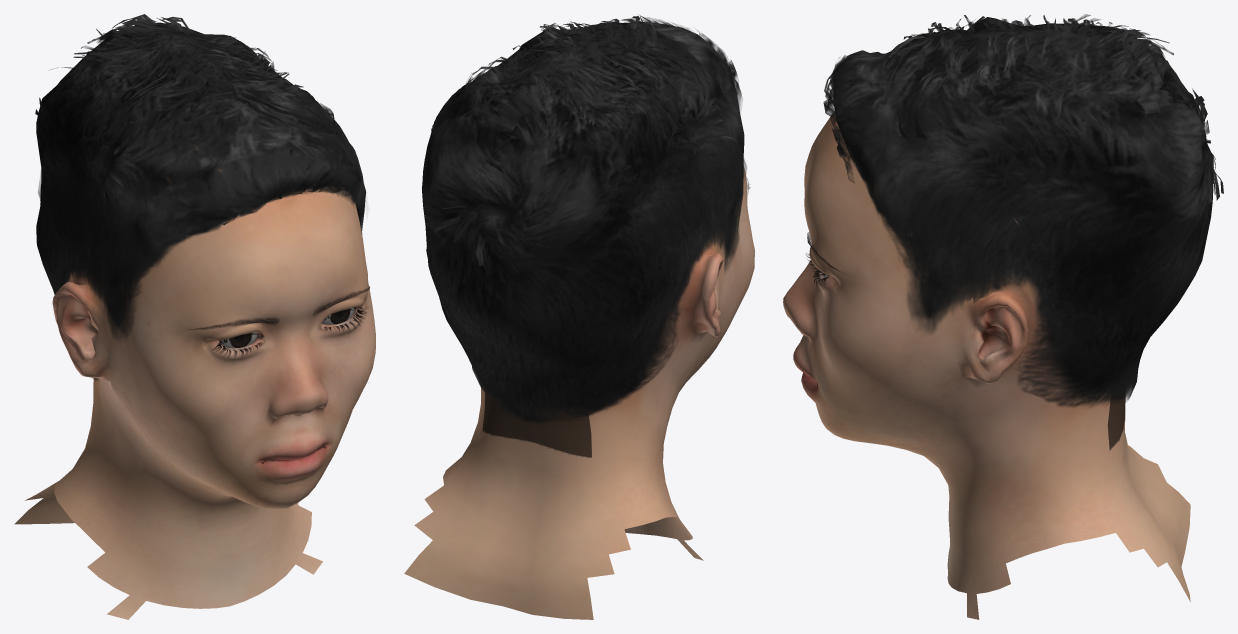
The model's file is patient10.glb.
3 views of the same model, side by side, from view 1: azimuth 30°, elevation 25°; view 2: azimuth 150°, elevation 25°; view 3: azimuth 270°, elevation 25° (orthographic). The views are drawn at different scales.
Visible parts, largest first — view 1: jung_kkoma.body, jung_kkoma.short01, jung_kkoma.eyelashes01, jung_kkoma.eyebrow001, jung_kkoma.high-poly; view 2: jung_kkoma.short01, jung_kkoma.body; view 3: jung_kkoma.short01, jung_kkoma.body.
Part boxes in pixels (x1,y1,x2,y2): jung_kkoma.body: (14, 148, 375, 619); jung_kkoma.short01: (35, 14, 366, 381); jung_kkoma.eyelashes01: (212, 307, 366, 357); jung_kkoma.eyebrow001: (189, 286, 369, 329); jung_kkoma.high-poly: (220, 308, 354, 348); jung_kkoma.short01: (422, 14, 746, 424); jung_kkoma.body: (404, 166, 754, 619); jung_kkoma.short01: (823, 14, 1223, 407); jung_kkoma.body: (783, 113, 1190, 619).
Size of the model in its own units: 0.1496 by 0.2703 by 0.1973.
8 materials, 7 textured.
